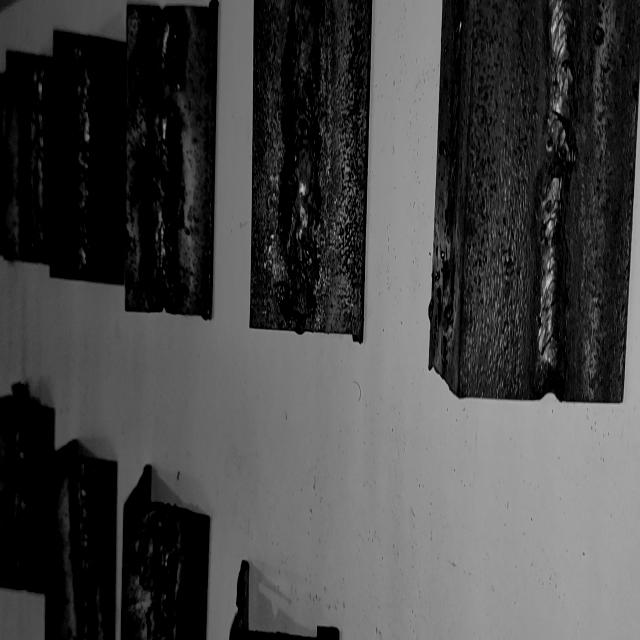Bad Weld: (147, 13, 181, 303)
Defect: (147, 46, 183, 120)
Good Weld: (535, 0, 582, 379), (282, 0, 322, 328), (73, 38, 95, 274), (70, 460, 94, 640), (27, 63, 48, 255), (11, 404, 29, 588), (155, 512, 176, 640)
